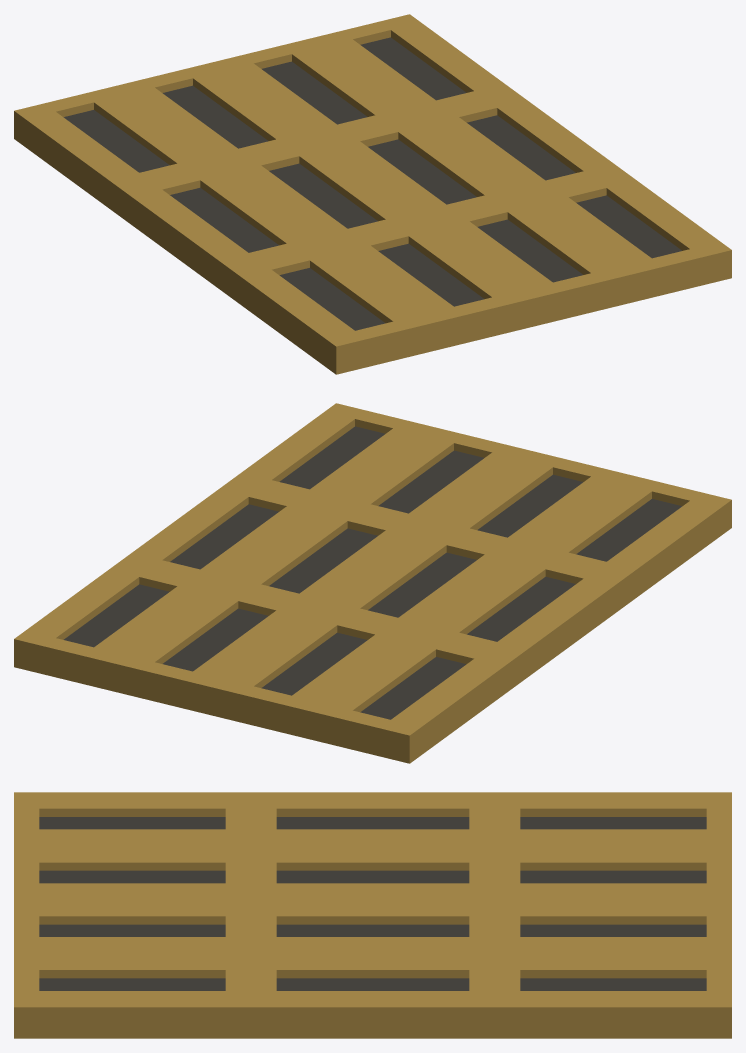
The model's file is Loophole.fbx.
3 renders of one model, top to bottom at view 1: azimuth 30°, elevation 25°; view 2: azimuth 150°, elevation 25°; view 3: azimuth 270°, elevation 25°, orthographic. The views are drawn at different scales.
Visible parts, largest first — view 1: Loophole; view 2: Loophole; view 3: Loophole.
Part boxes in pixels (x1,y1,x2,y2): Loophole: (14,14,731,374); Loophole: (14,403,731,763); Loophole: (14,792,731,1038).
Bounding box in the file's own units: 0.9916 × 0.0675 × 1.4.
